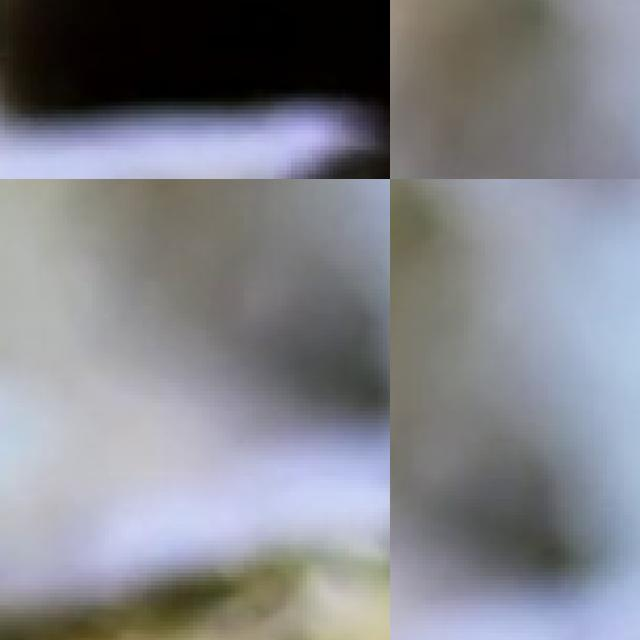fish: (0, 0, 390, 179), (390, 0, 477, 179)
